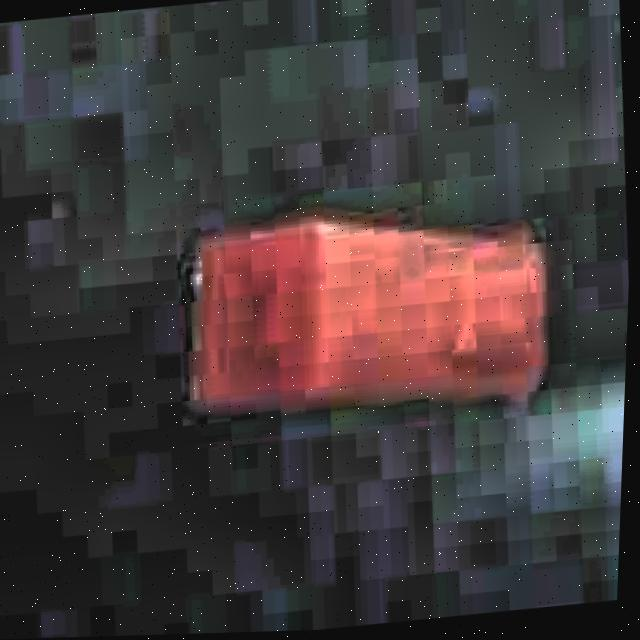bus: (155, 178, 570, 443)
